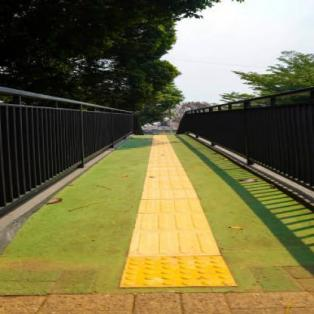Podoctatil: (120, 135, 239, 285)
